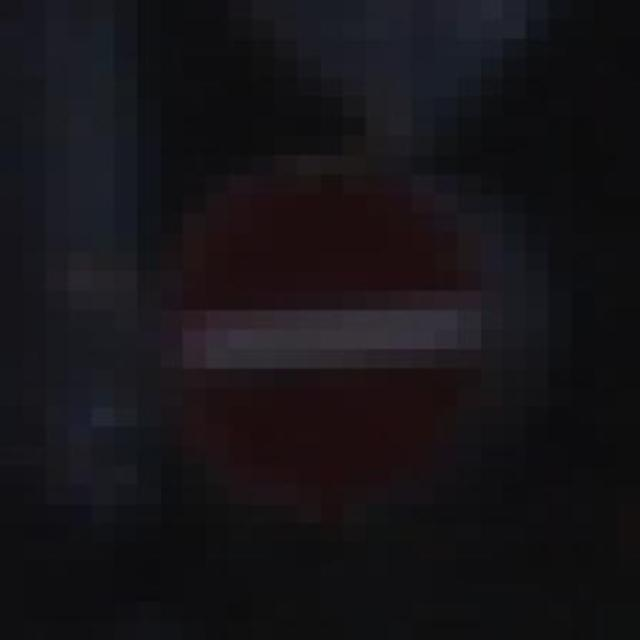B2: (169, 160, 495, 522)
